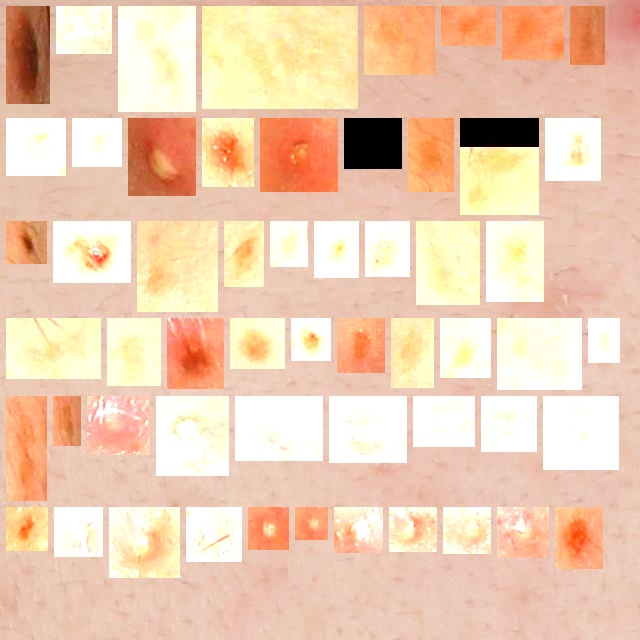melasma: (210, 14, 350, 101), (126, 14, 188, 104), (468, 126, 531, 207), (145, 229, 210, 304), (505, 326, 574, 382), (14, 326, 93, 371), (424, 229, 472, 297), (372, 14, 427, 67), (494, 229, 536, 294), (14, 404, 39, 493), (115, 326, 153, 378), (14, 126, 58, 168), (510, 14, 556, 52), (416, 126, 446, 184), (448, 326, 483, 370), (352, 126, 394, 161), (399, 326, 426, 380), (345, 326, 377, 365), (232, 229, 256, 279), (322, 229, 351, 270), (373, 229, 402, 269), (80, 126, 114, 159), (449, 14, 488, 38), (578, 14, 597, 57), (278, 229, 300, 259), (596, 326, 612, 355), (61, 404, 73, 438)
nevus: (61, 229, 123, 275), (14, 14, 42, 96), (175, 326, 216, 381), (210, 126, 246, 179), (563, 515, 595, 561), (238, 326, 277, 361), (14, 515, 40, 543), (14, 229, 39, 256), (299, 326, 323, 353)
pustule: (164, 404, 221, 468), (268, 126, 330, 184), (243, 404, 315, 453), (551, 404, 611, 462), (136, 126, 188, 188), (337, 404, 399, 455), (117, 515, 172, 570), (95, 404, 142, 447), (421, 404, 467, 439), (489, 404, 529, 444), (194, 515, 234, 554), (64, 14, 104, 46), (505, 515, 541, 550), (62, 515, 95, 549), (451, 515, 483, 546), (342, 515, 375, 545), (397, 515, 429, 544), (256, 515, 281, 542), (303, 515, 320, 532)
